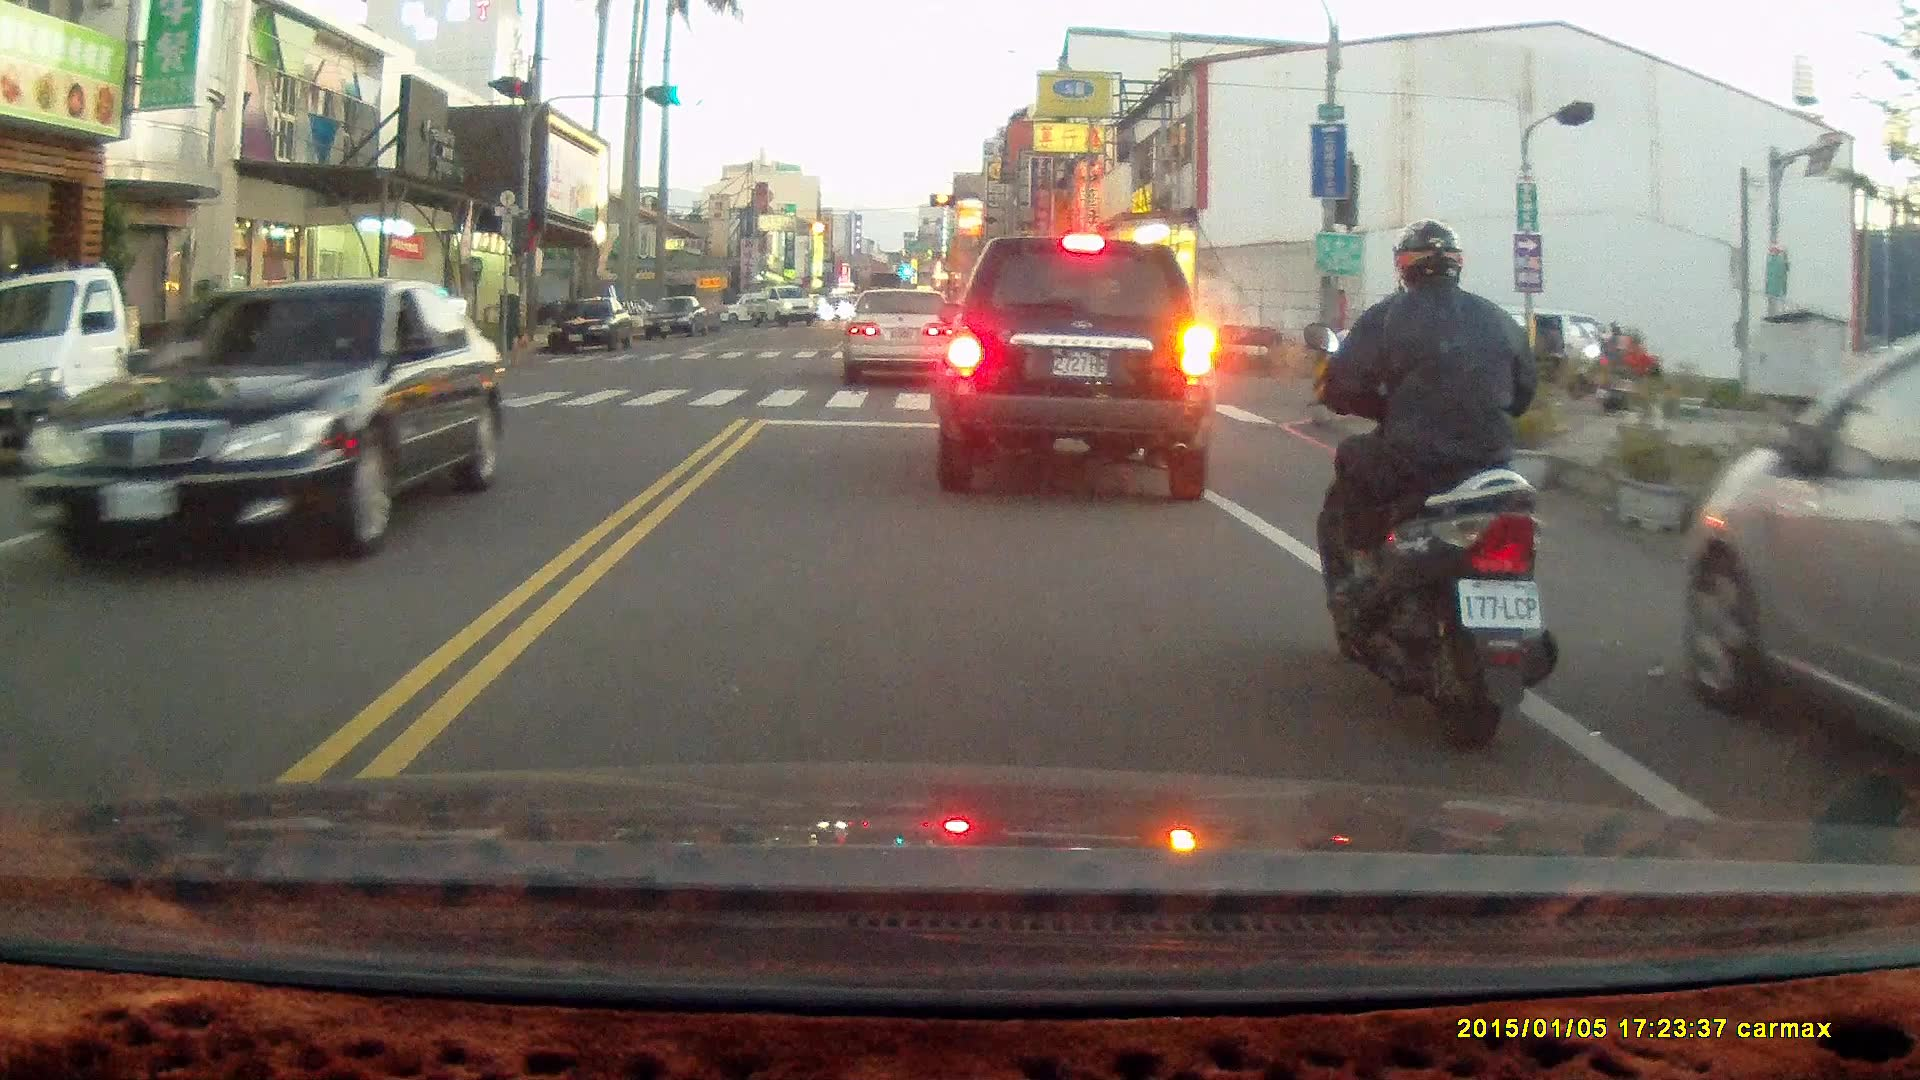pedestrian: (1539, 318, 1562, 383)
rider: (1303, 214, 1561, 749), (1597, 323, 1681, 420)
vehicle: (21, 277, 507, 567), (1672, 337, 1920, 758), (937, 234, 1216, 503), (1, 268, 208, 458), (846, 288, 957, 385), (549, 297, 641, 354), (642, 296, 710, 340)
